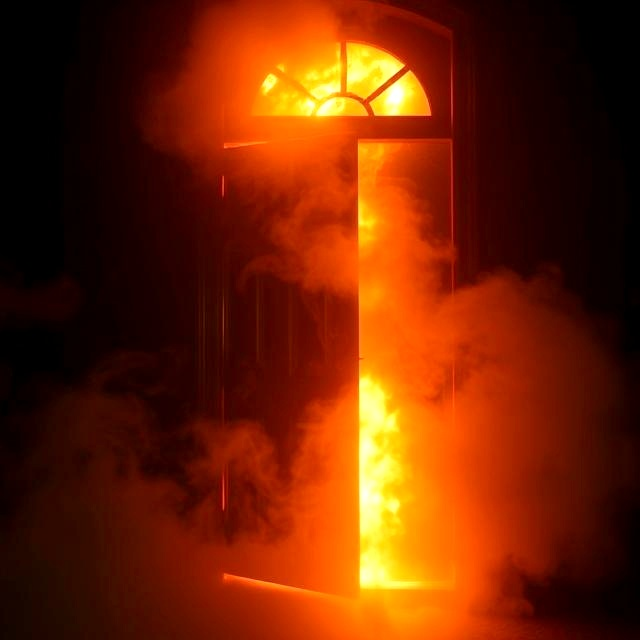fire: (177, 7, 497, 614)
